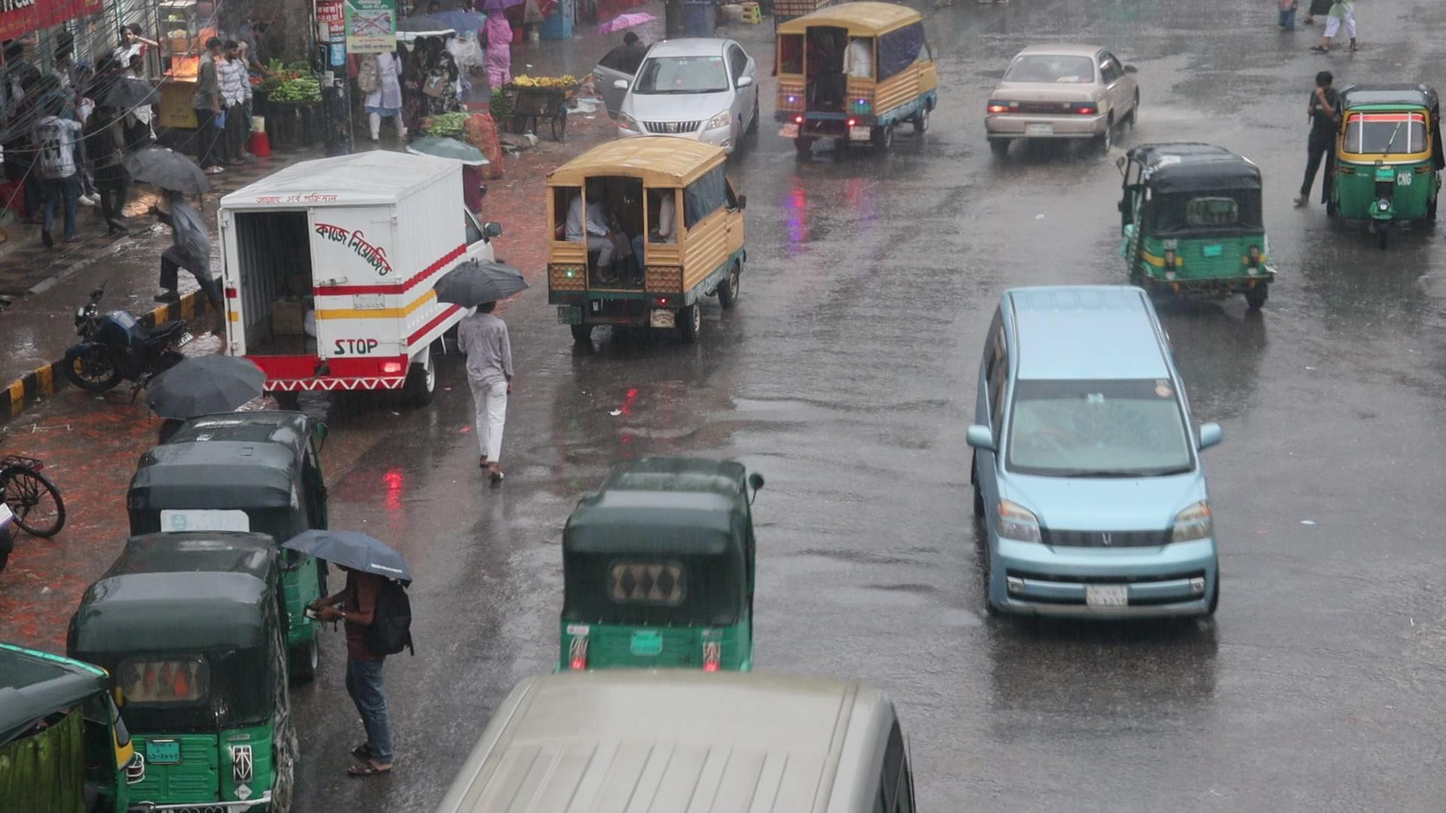Car: (964, 280, 1224, 626), (983, 40, 1140, 155), (615, 39, 761, 148)
Truck: (544, 134, 749, 344), (776, 0, 940, 151)
